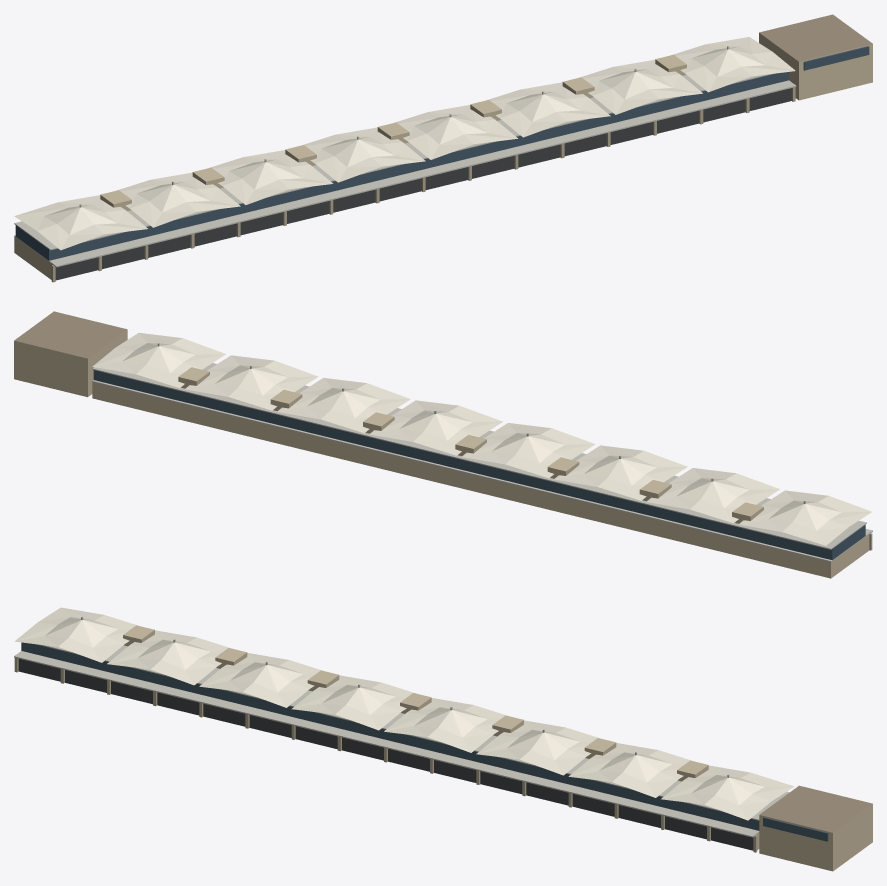
Rendered from pit_building.glb.
3 views of the same model, one above another, from view 1: azimuth 30°, elevation 25°; view 2: azimuth 150°, elevation 25°; view 3: azimuth 330°, elevation 25° (orthographic).
Parts seen in each view (by area): view 1: chunk_0_0; view 2: chunk_0_0; view 3: chunk_0_0.
Boxes of the visible parts, x1=… form: chunk_0_0: x1=14, y1=14, x2=872, y2=282; chunk_0_0: x1=14, y1=311, x2=872, y2=578; chunk_0_0: x1=14, y1=607, x2=872, y2=871.
Bounding box in the file's own units: 355 × 21.4 × 35.
